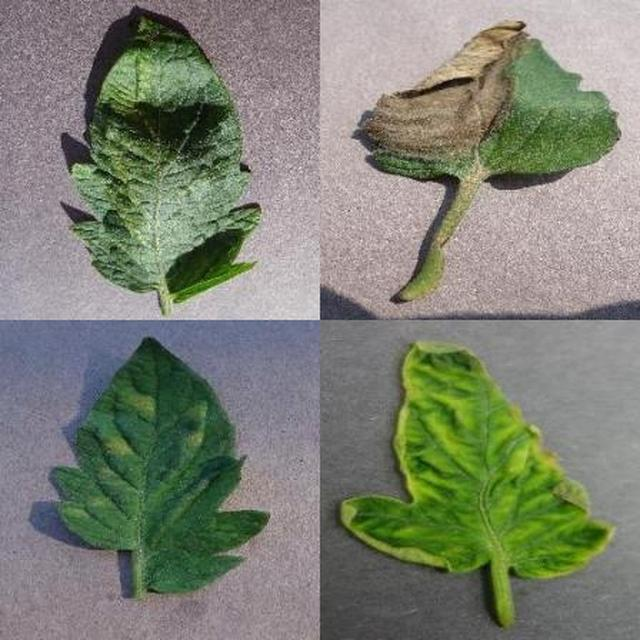Spider Mites Leaf: (231, 141, 640, 640)
